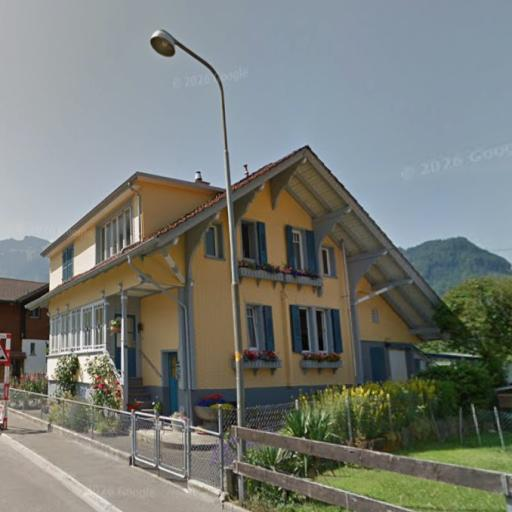poste: (140, 23, 250, 492)
